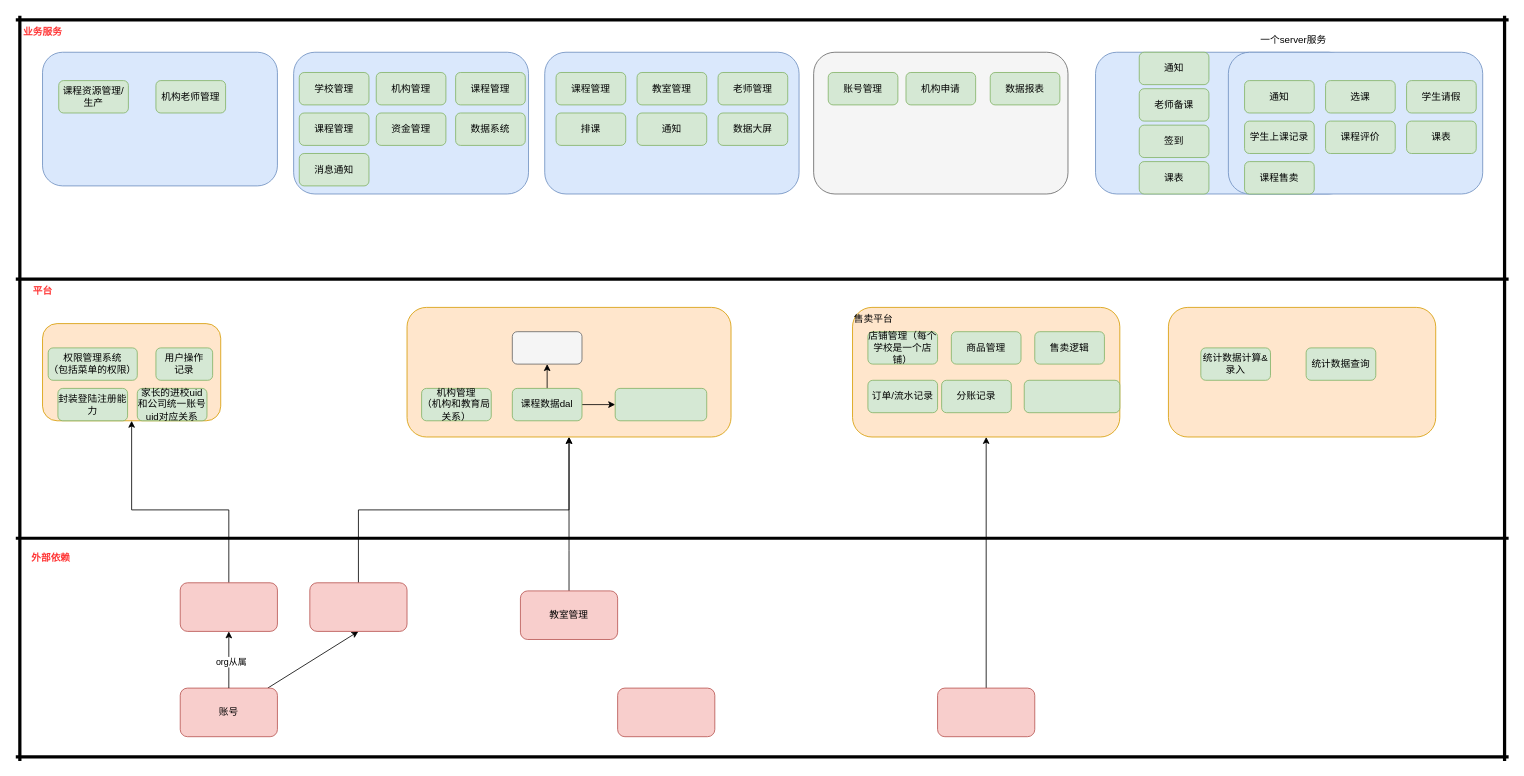
Some shapes in this 1524 by 776 pixel diagram are drawn without their labels. Each missing label, with the box of its shape:
区域和行政组织关系: (309, 582, 407, 631)
售卖: (937, 687, 1035, 737)
学校平台: (544, 51, 799, 194)
学生课程数据das: (614, 388, 707, 421)
家长端: (1228, 51, 1483, 194)
履约管理（由售卖平台负责调用课程结构系统）: (1023, 379, 1120, 413)
批处理系统: (1168, 307, 1436, 437)
排课 （人工排课，在业务侧）: (512, 331, 582, 364)
教师端: (1095, 51, 1350, 194)
教育局平台: (293, 51, 529, 194)
机构平台: (42, 51, 277, 186)
权限: (179, 582, 277, 631)
权限系统: (42, 323, 221, 421)
课程结构管理: (406, 307, 731, 437)
资源系统（cos封装）: (617, 687, 715, 737)
运营平台: (813, 51, 1068, 194)
